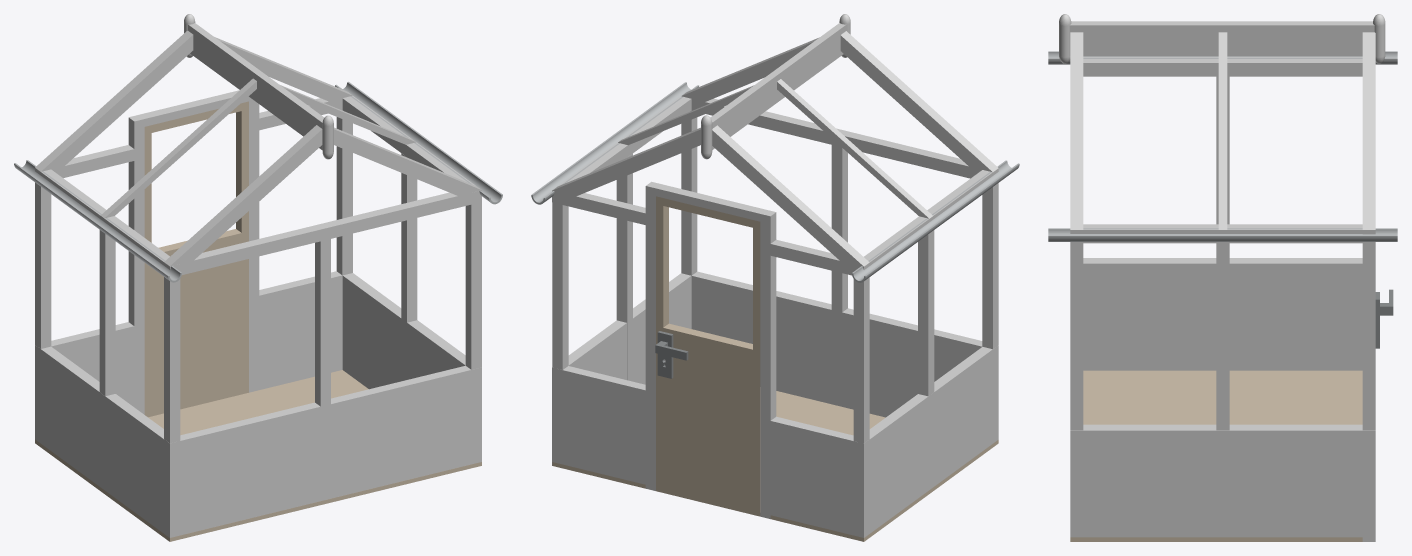
Rendered from outside area.glb.
The picture shows the model from 3 angles, left to right: view 1: azimuth 30°, elevation 25°; view 2: azimuth 150°, elevation 25°; view 3: azimuth 270°, elevation 25°; orthographic projection. The views are drawn at different scales.
Parts seen in each view (by area): view 1: Mesh_Mesh_head_geo.001_lambert2SG.001; view 2: Mesh_Mesh_head_geo.001_lambert2SG.001; view 3: Mesh_Mesh_head_geo.001_lambert2SG.001.
Boxes of the visible parts, x1,y1,x2,y2 form: Mesh_Mesh_head_geo.001_lambert2SG.001: [14, 14, 502, 541]; Mesh_Mesh_head_geo.001_lambert2SG.001: [531, 14, 1019, 541]; Mesh_Mesh_head_geo.001_lambert2SG.001: [1048, 14, 1397, 541].
Size of the model in its own units: 0.089 by 0.099 by 0.071.
